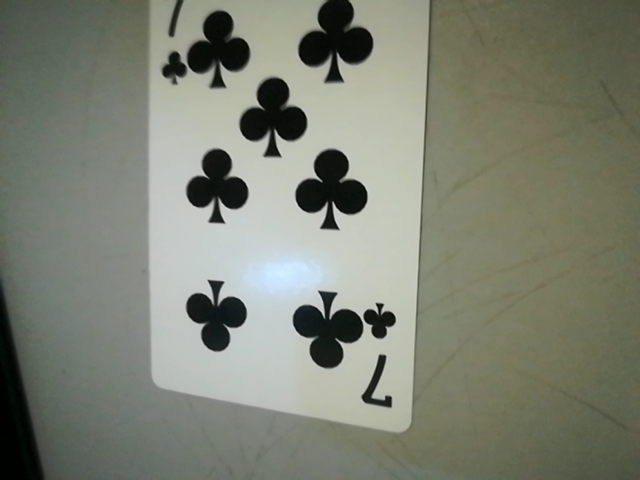mh 7: (353, 296, 412, 419)
